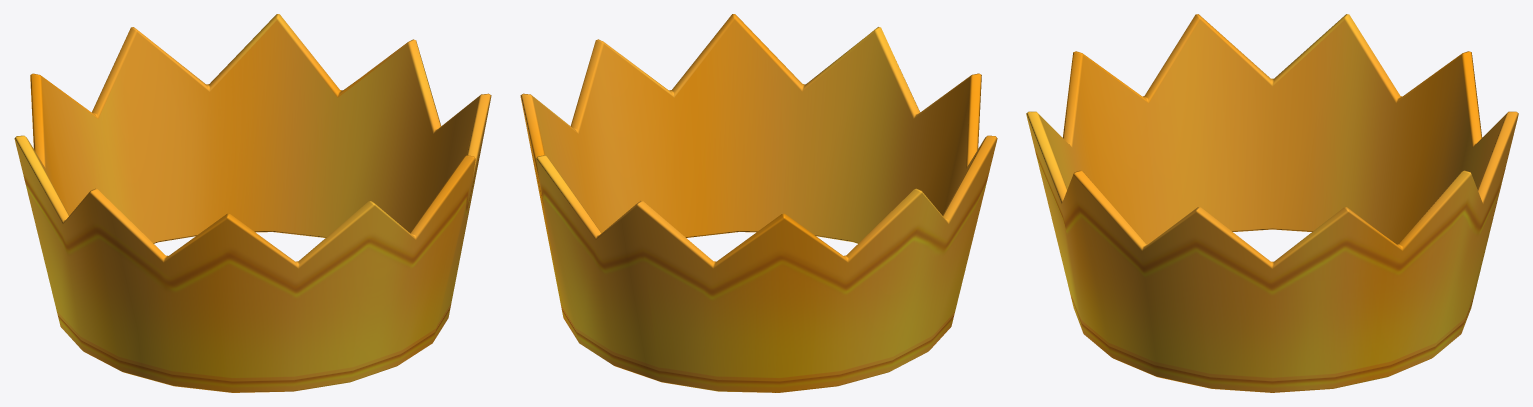
Rendered from crown.fbx.
3 views of the same model, side by side, from view 1: azimuth 30°, elevation 25°; view 2: azimuth 150°, elevation 25°; view 3: azimuth 270°, elevation 25° (orthographic).
Parts seen in each view (by area): view 1: crown; view 2: crown; view 3: crown.
Boxes of the visible parts, x1,y1,x2,y2 form: crown: [14, 14, 491, 392]; crown: [520, 14, 997, 392]; crown: [1026, 14, 1518, 392].
Bounding box in the file's own units: 26.33 × 12.26 × 27.68.
